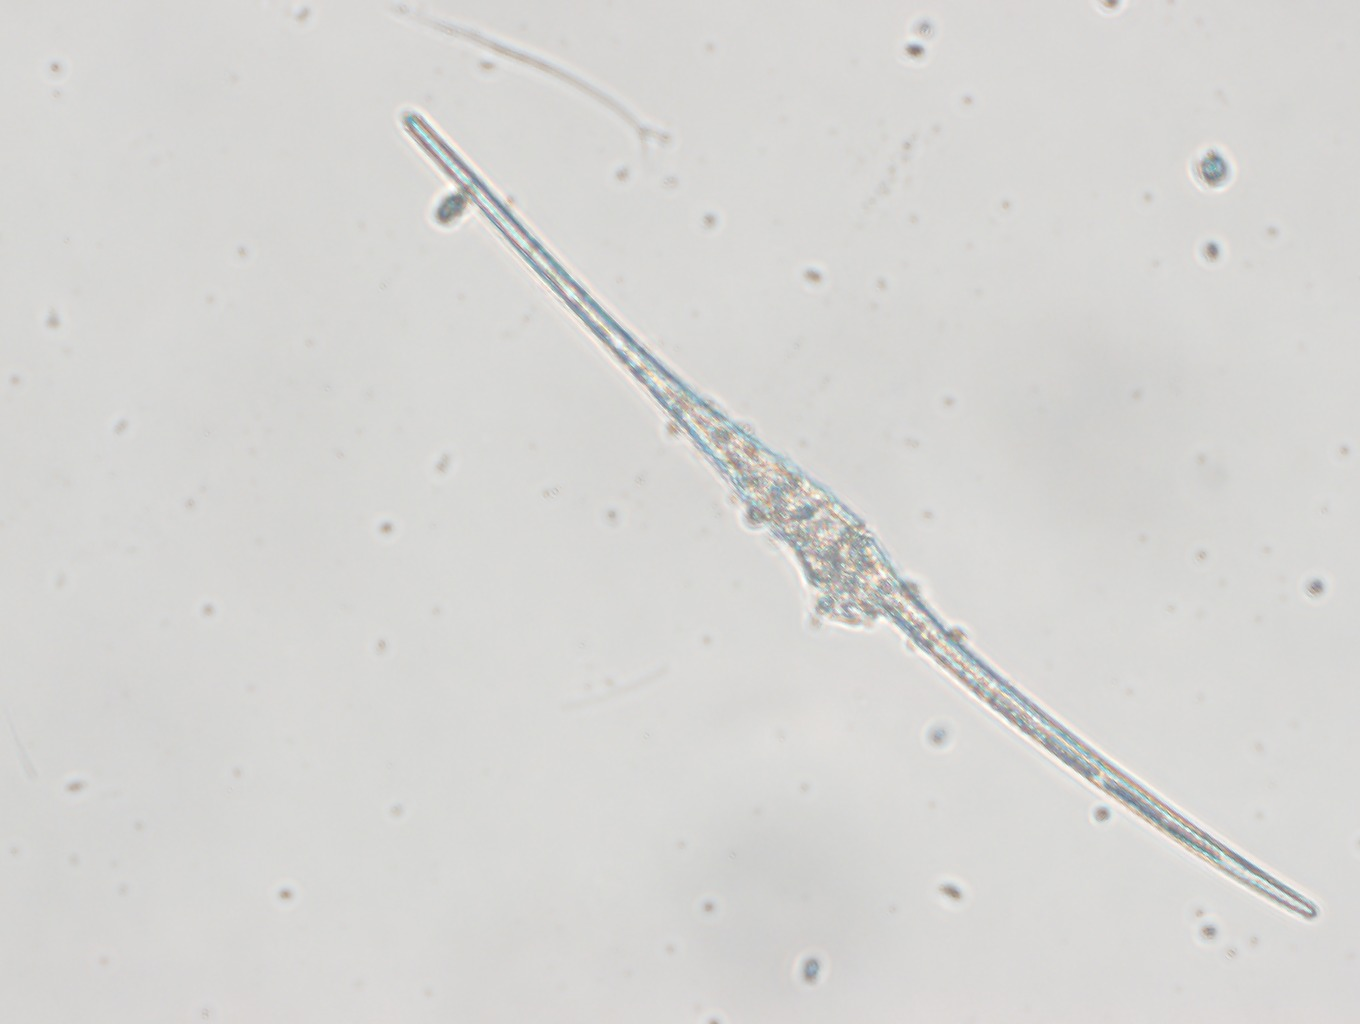ceratium fusus: (390, 98, 1325, 938)
